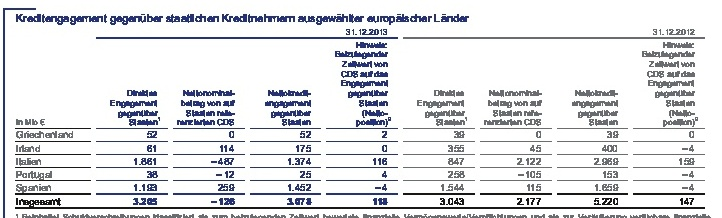table: (0, 0, 722, 218)
